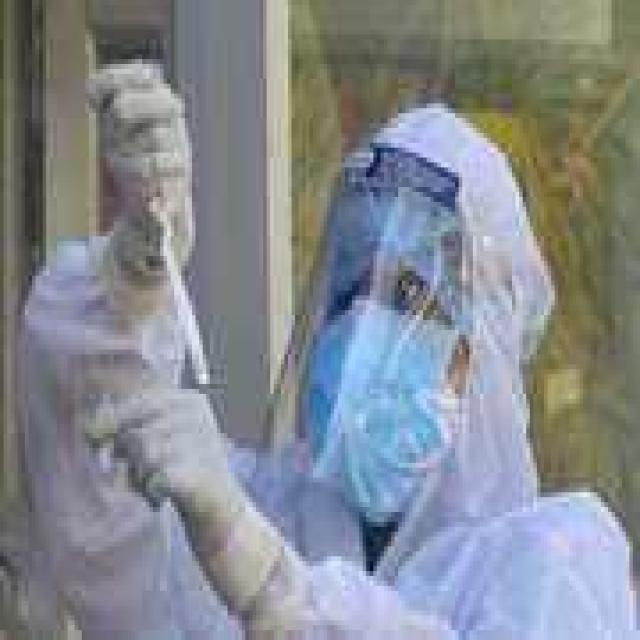Coverall: (7, 20, 619, 620)
Gloves: (50, 389, 299, 591), (71, 40, 210, 296)
Mask: (295, 300, 491, 443)
